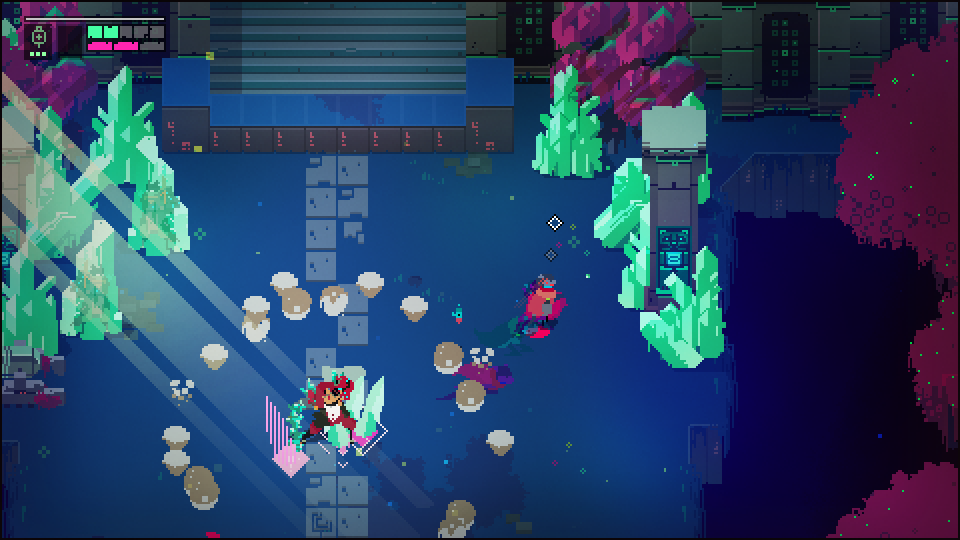hanged_crys: (261, 398, 295, 456), (357, 377, 386, 439)
hanged_man: (283, 376, 355, 450)
player: (528, 274, 562, 335)
